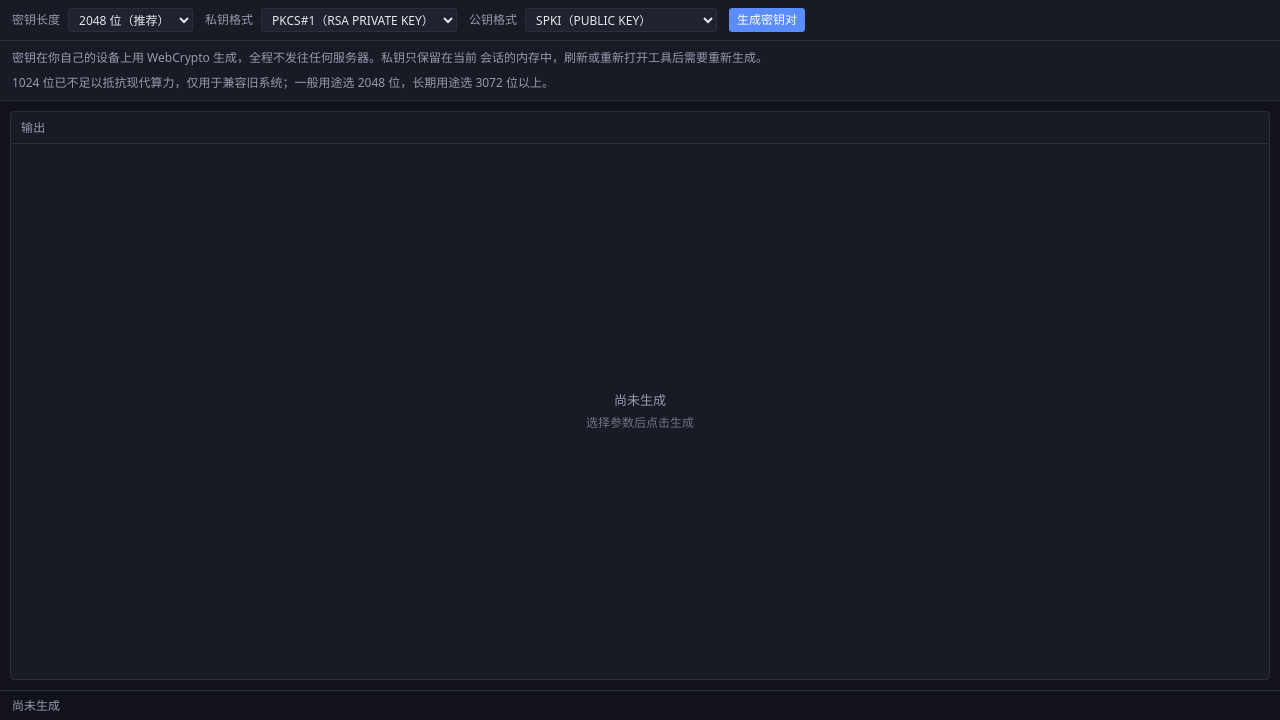
RSA 密钥对生成器 › 修改参数不自动重算：结果保留，状态行提示参数已变更
Click the button "生成密钥对" at (767, 20), box [729, 8, 805, 32]
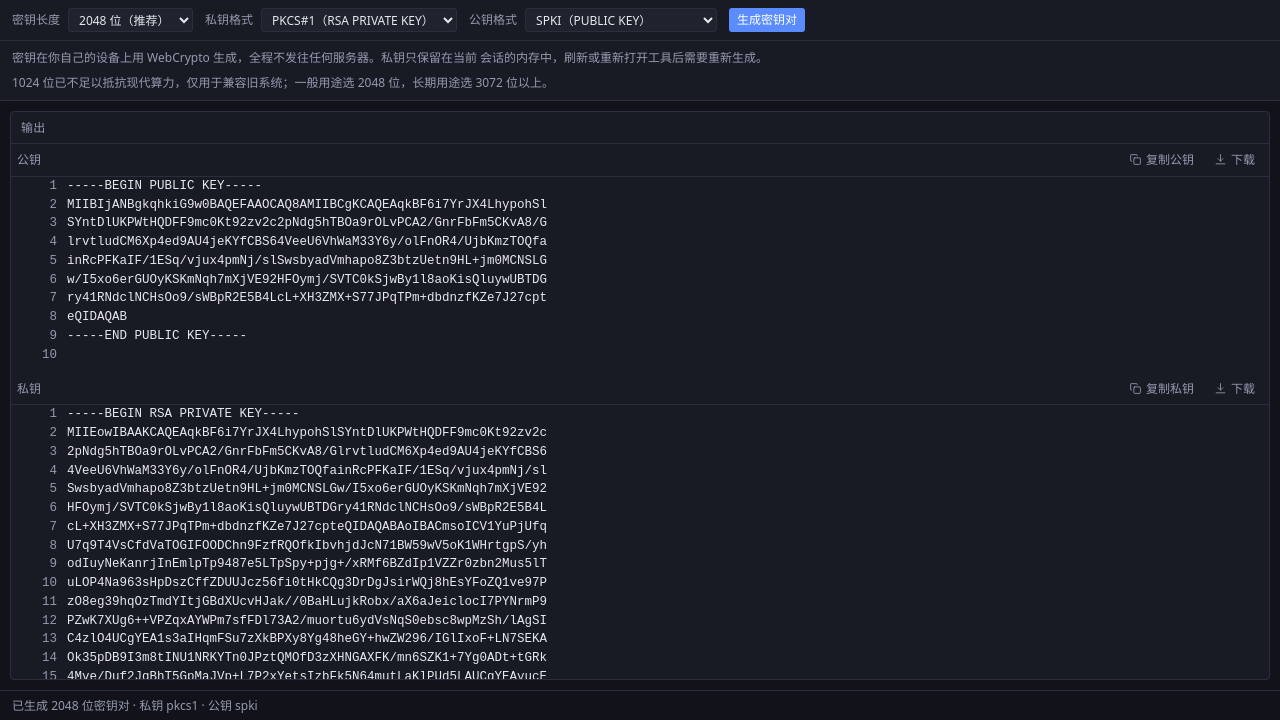
维度 1：密钥长度
Select "1024 位" in the dropdown labelled "密钥长度" at (130, 20), box [68, 8, 193, 32]
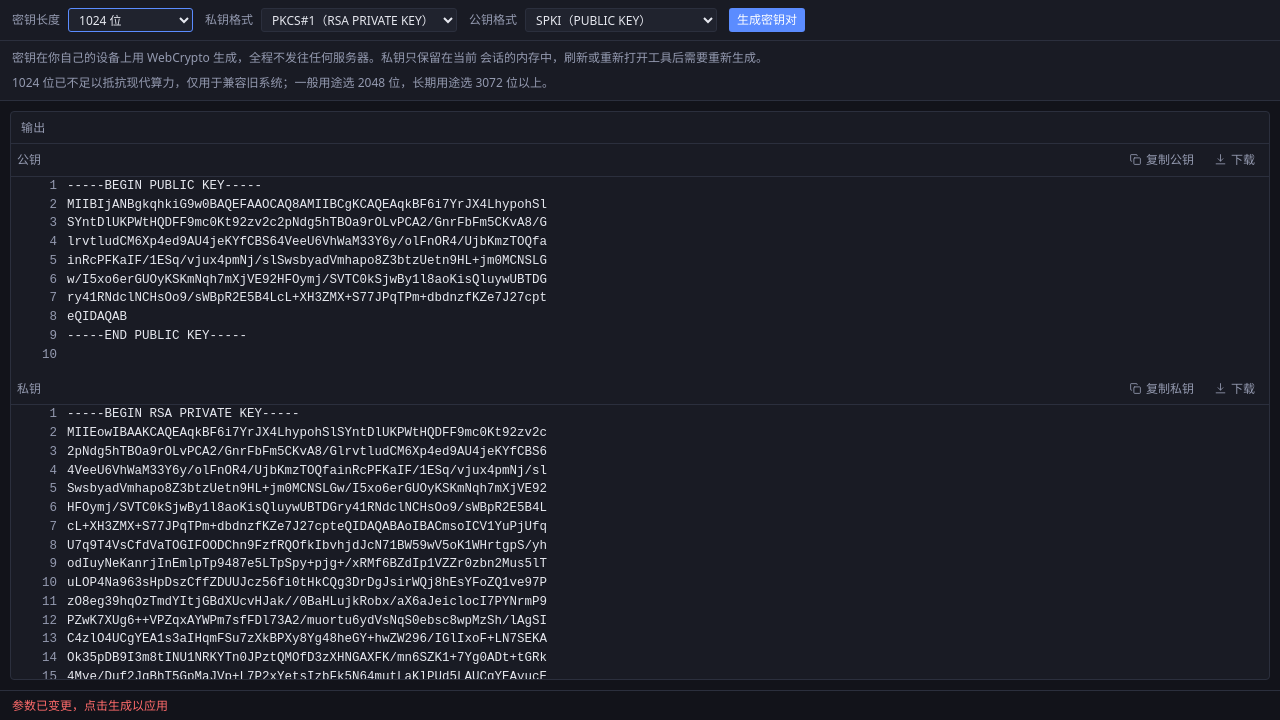
Expected: the text "参数已变更，点击生成以应用" is shown, [12, 697, 168, 714]
改回原值即复位（stale 是「与快照比较」而不是「是否改动过」）
Select "2048 位（推荐）" in the dropdown labelled "密钥长度" at (130, 20), box [68, 8, 193, 32]
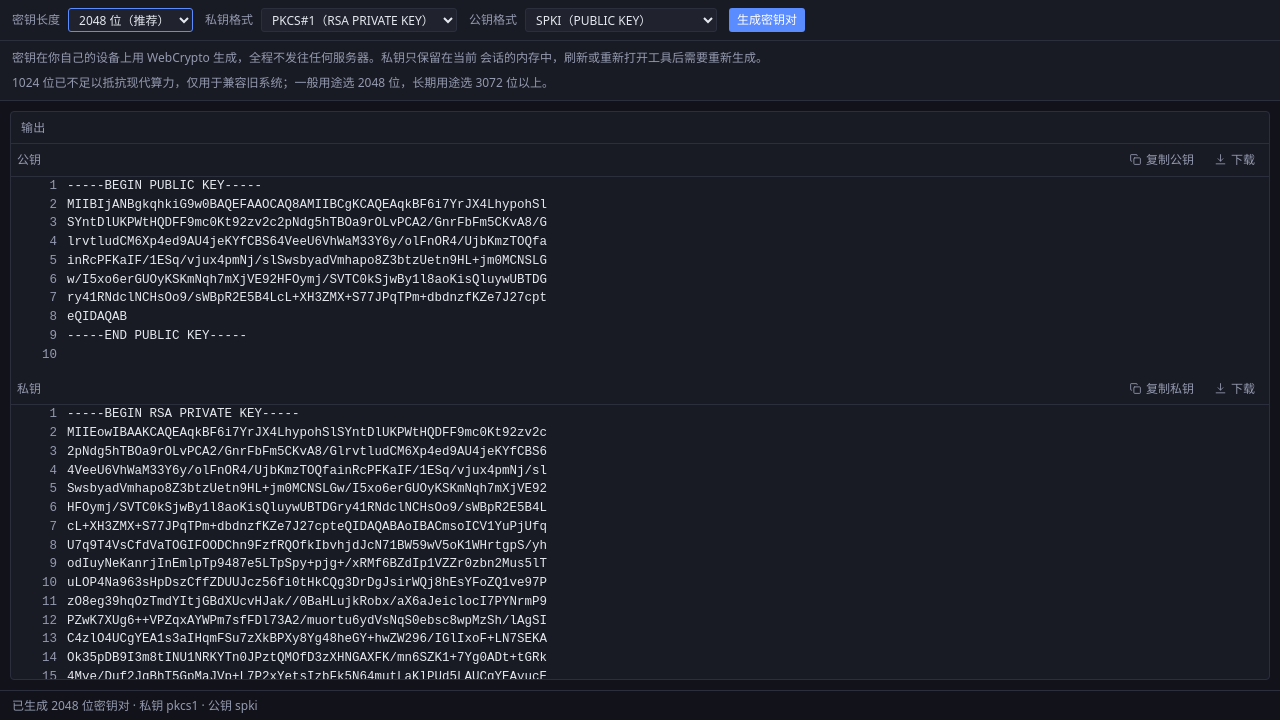
Expected: the text "参数已变更" is gone
维度 2：只改私钥格式。少比一个格式字段的 isStale 实现会在这里露出来
Select "PKCS#8（PRIVATE KEY）" in the dropdown labelled "私钥格式" at (359, 20), box [261, 8, 457, 32]
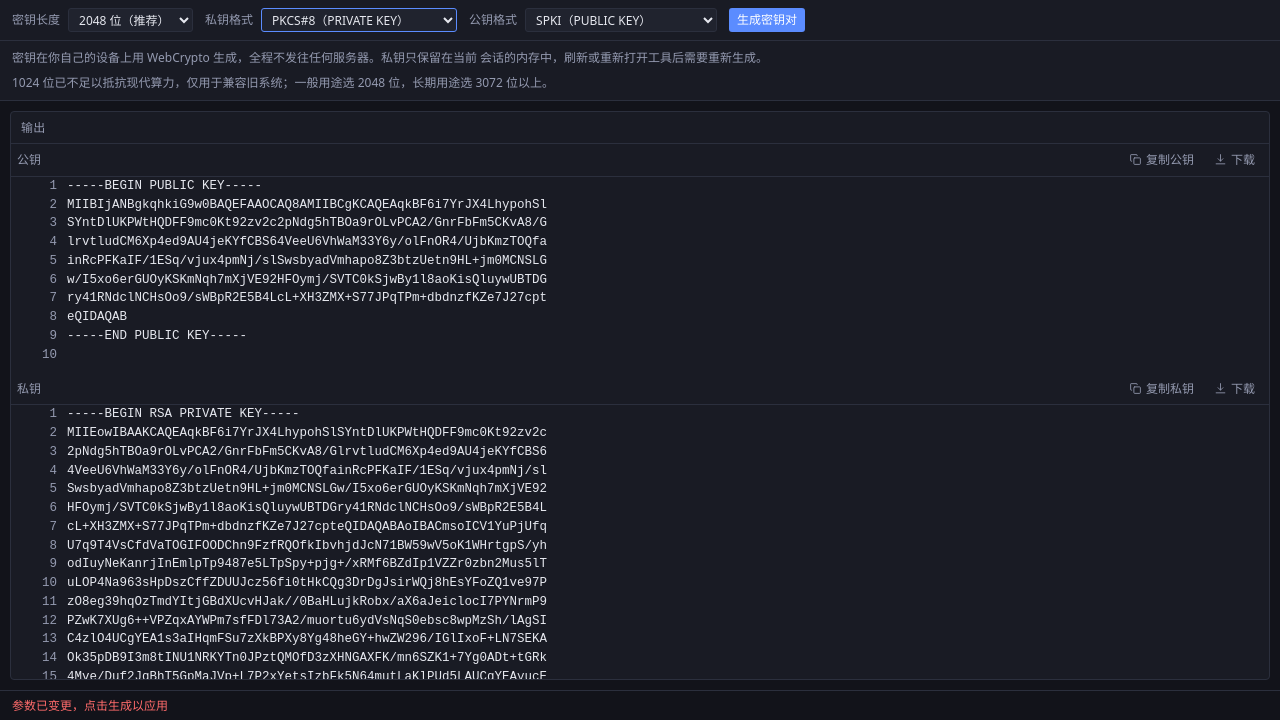
Expected: the text "参数已变更，点击生成以应用" is shown, [12, 697, 168, 714]
